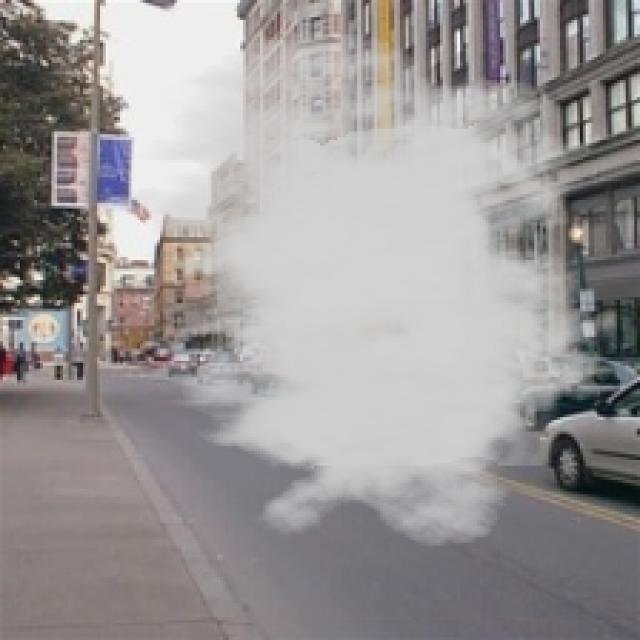Smoke: (94, 31, 629, 548)
